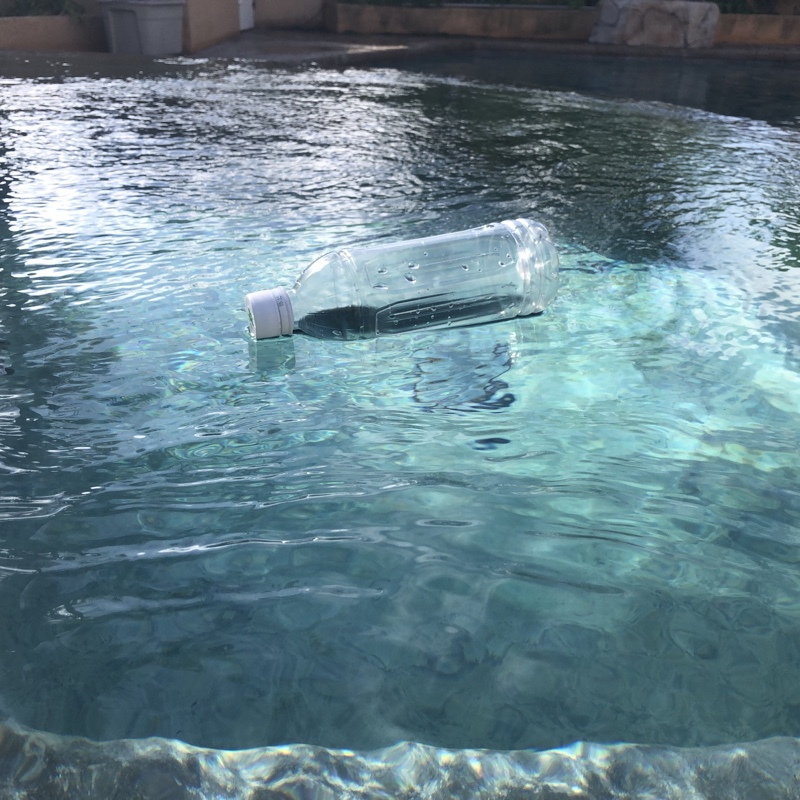Plastic Bottle: (240, 214, 562, 340)
